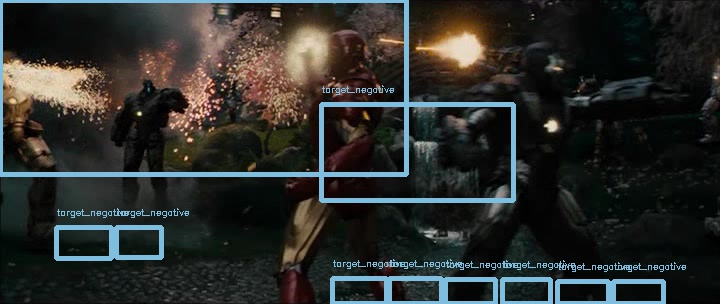person: (319, 31, 366, 78), (318, 31, 365, 78), (320, 31, 367, 78), (319, 30, 366, 77), (319, 32, 366, 79)
target_negative: (60, 72, 288, 195), (410, 104, 627, 221), (418, 114, 568, 265), (466, 244, 655, 292), (237, 101, 648, 118), (565, 279, 716, 286)
